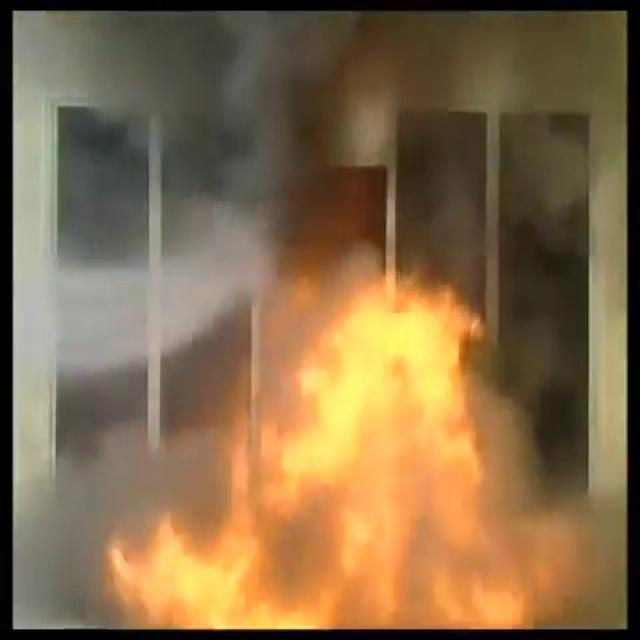Fire: (105, 274, 578, 634)
Smoke: (11, 11, 624, 272)
